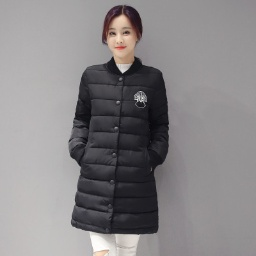face: (100, 2, 152, 73)
